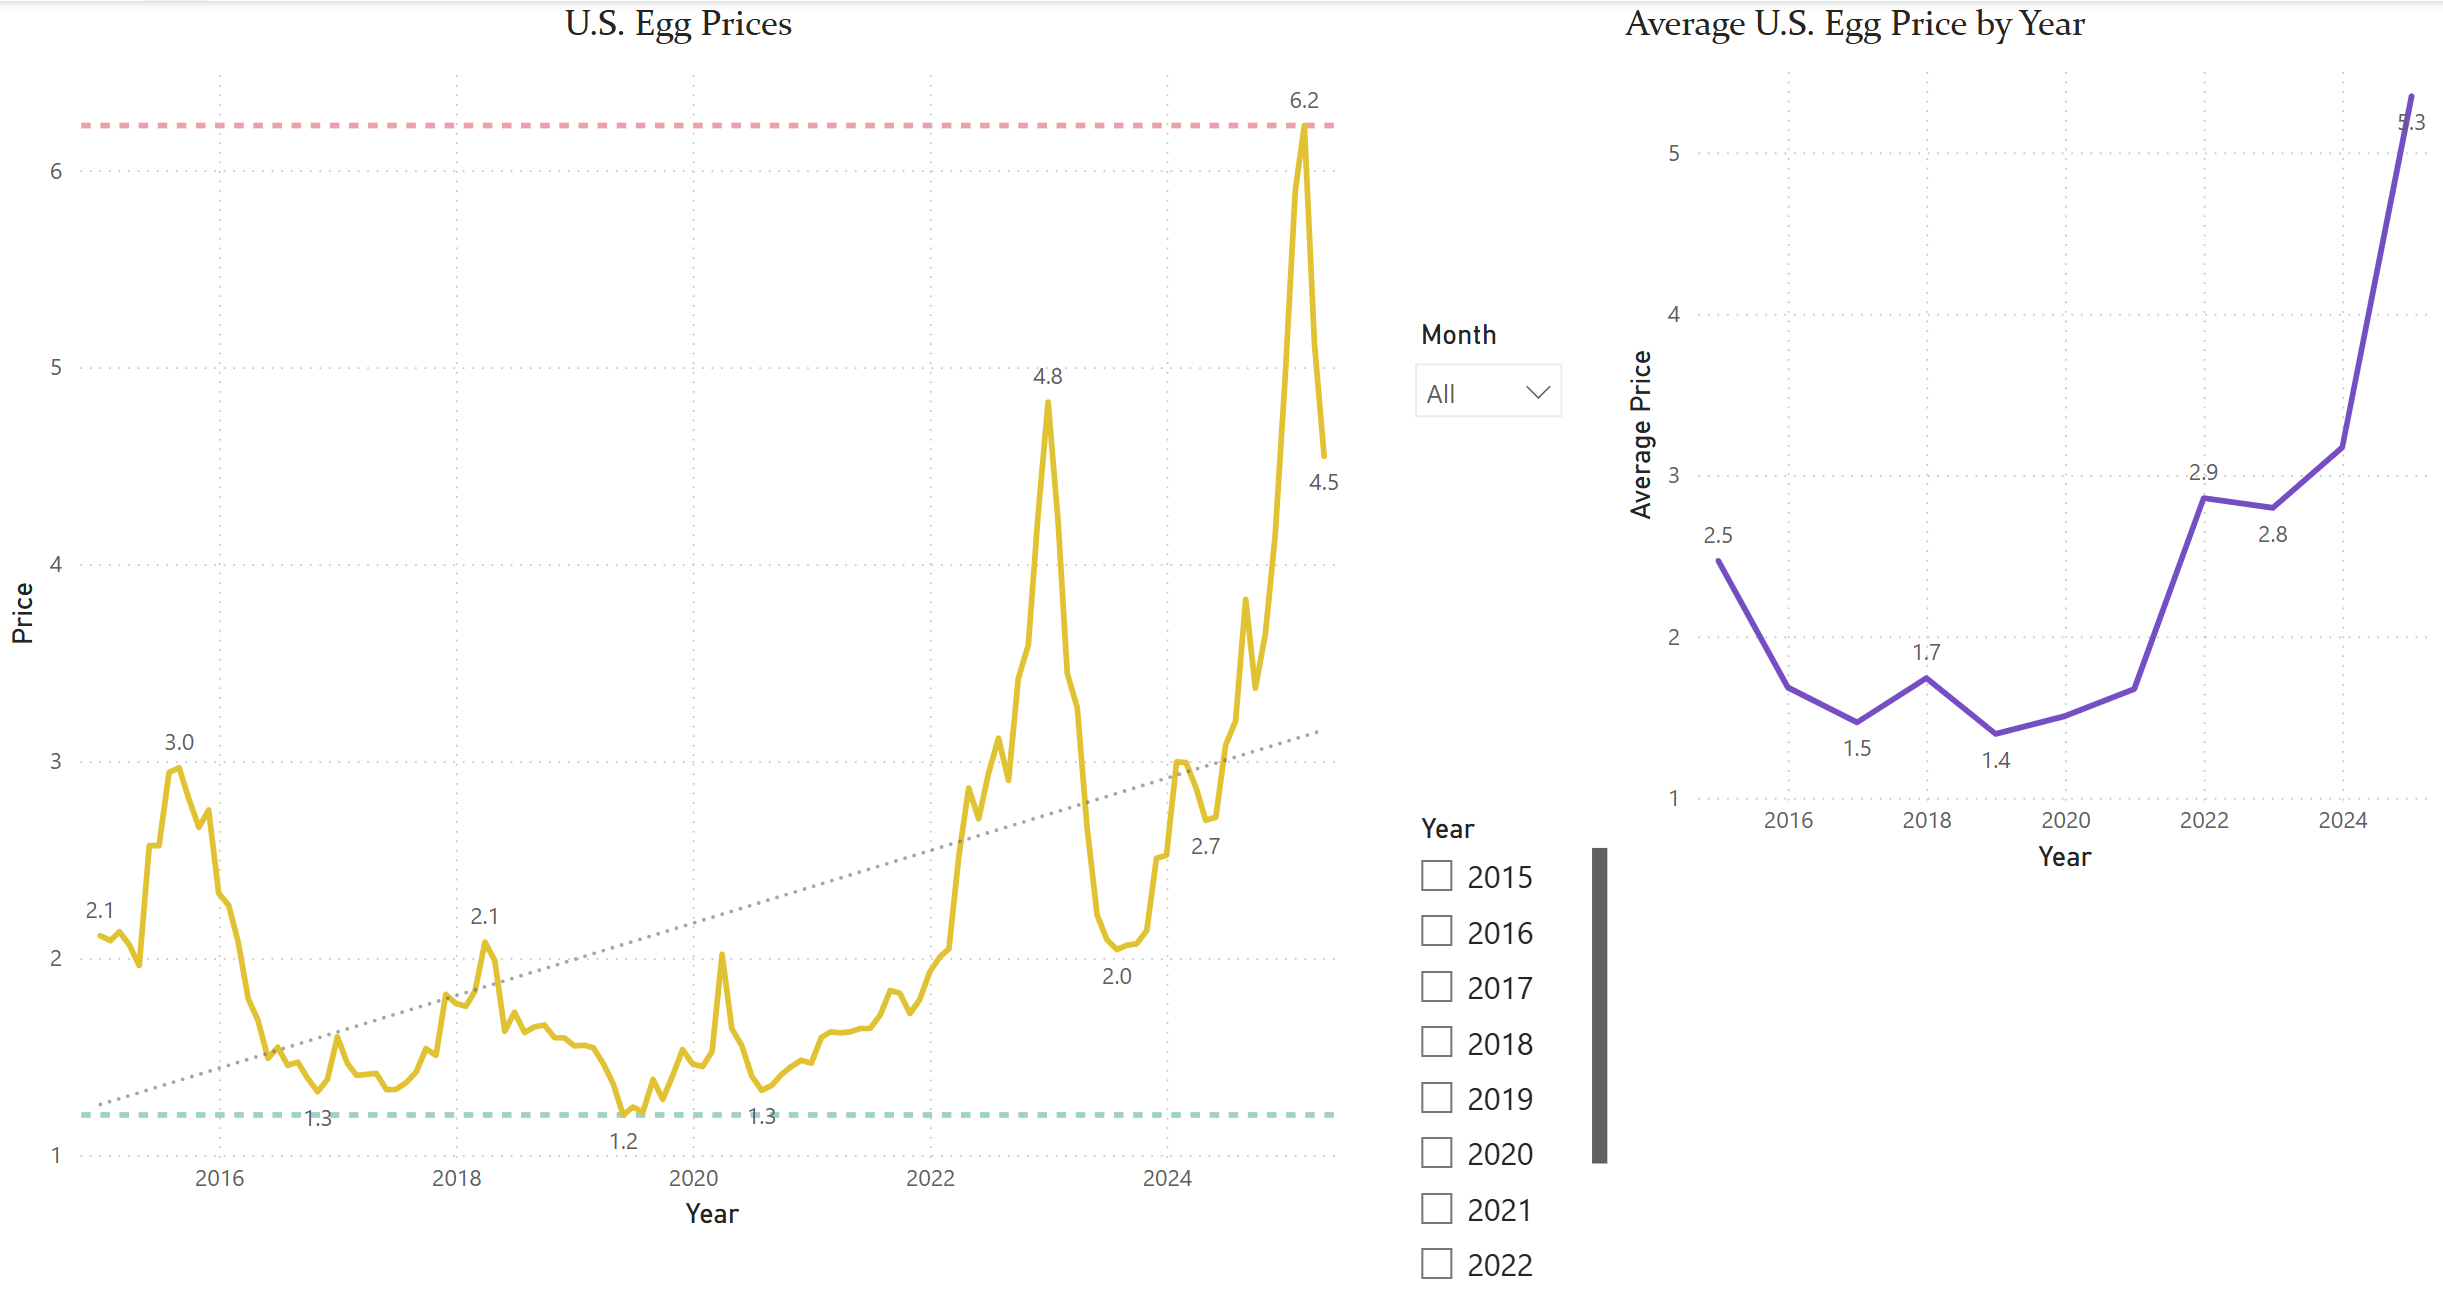

Layout of this report page (visuals, bound fields, positions):
{"tool":"powerbi","page":{"name":"Page 1","canvas":[1280,720],"ordinal":0},"visuals":[{"type":"lineChart","title":"U.S. Egg Prices","fields":{"Y":["Avg(Series Id: Series Title: Area: Item: Years: (BLS Data Series).Price)"],"Category":["Series Id: Series Title: Area: Item: Years: (BLS Data Series).Date.Variation.Date Hierarchy.Year","Series Id: Series Title: Area: Item: Years: (BLS Data Series).Date.Variation.Date Hierarchy.Month"]},"box":[0,0,711.4,646.9],"z":0},{"type":"slicer","fields":{"Values":["Series Id: Series Title: Area: Item: Years: (BLS Data Series).Month"]},"box":[730.5,160.8,97.2,144.1],"z":1000},{"type":"lineChart","title":"Average U.S. Egg Price by Year","fields":{"Y":["Avg(Series Id: Series Title: Area: Item: Years: (BLS Data Series).Price)"],"Category":["Series Id: Series Title: Area: Item: Years: (BLS Data Series).Year"]},"box":[846,0,434,460.1],"z":2000},{"type":"slicer","fields":{"Values":["Series Id: Series Title: Area: Item: Years: (BLS Data Series).Year"]},"box":[730.5,418.8,115.6,258],"z":2001}]}

Visuals, with their boxes on the page's 1280x720 design canvas (x1, y1, x2, y2). These are canvas units, not pixel positions in the 2443x1299 screenshot, which may show the page scaled, cropped or inside an application window:
"U.S. Egg Prices" lineChart: bbox=(0, 0, 711, 647)
slicer - Series Id: Series Title: Area: Item: Years: (BLS Data Series).Month: bbox=(730, 161, 828, 305)
"Average U.S. Egg Price by Year" lineChart: bbox=(846, 0, 1280, 460)
slicer - Series Id: Series Title: Area: Item: Years: (BLS Data Series).Year: bbox=(730, 419, 846, 677)
